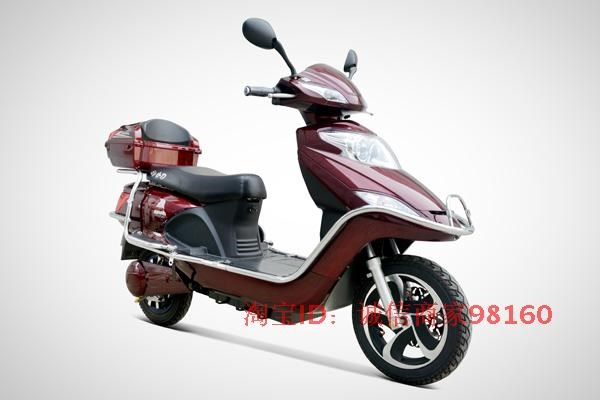电动车: (87, 11, 513, 399)
